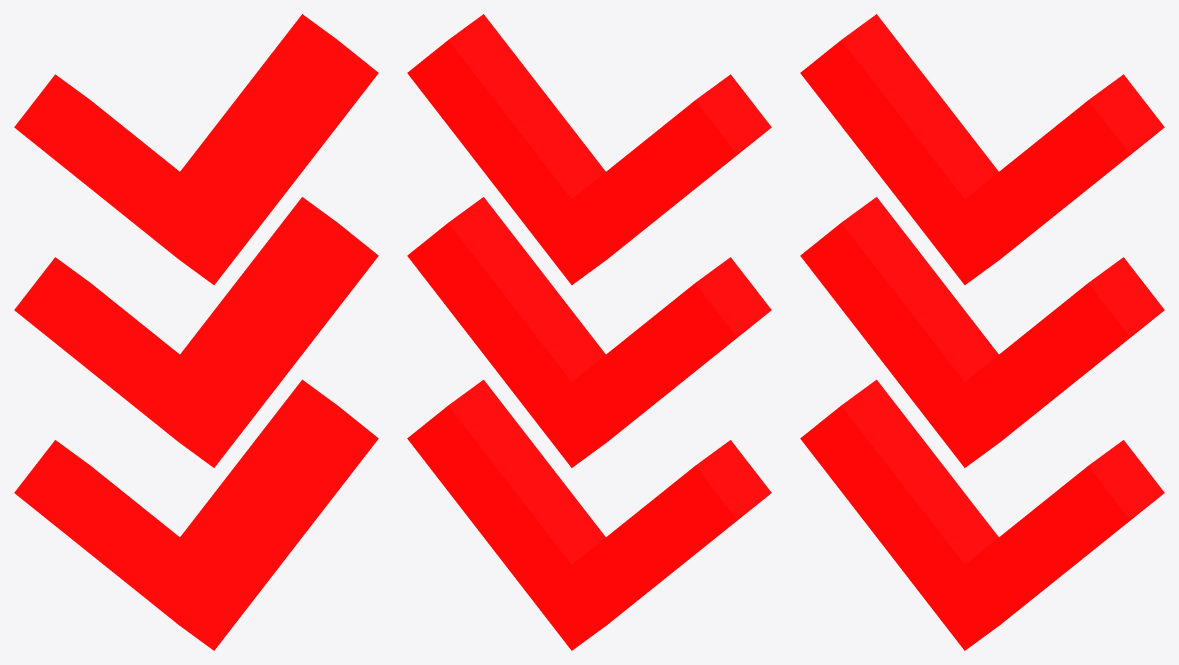
File: AnimatedIndicatorArrowRed.glb
3 renders of one model, left to right at view 1: azimuth 30°, elevation 25°; view 2: azimuth 150°, elevation 25°; view 3: azimuth 330°, elevation 25°, orthographic.
Parts seen in each view (by area): view 1: Plane; view 2: Plane; view 3: Plane.
Boxes of the visible parts, x1,y1,x2,y2 form: Plane: (14,14,378,650); Plane: (407,14,771,650); Plane: (800,14,1164,650).
Size of the model in its own units: 0.3394 by 0.5721 by 0.0632.
